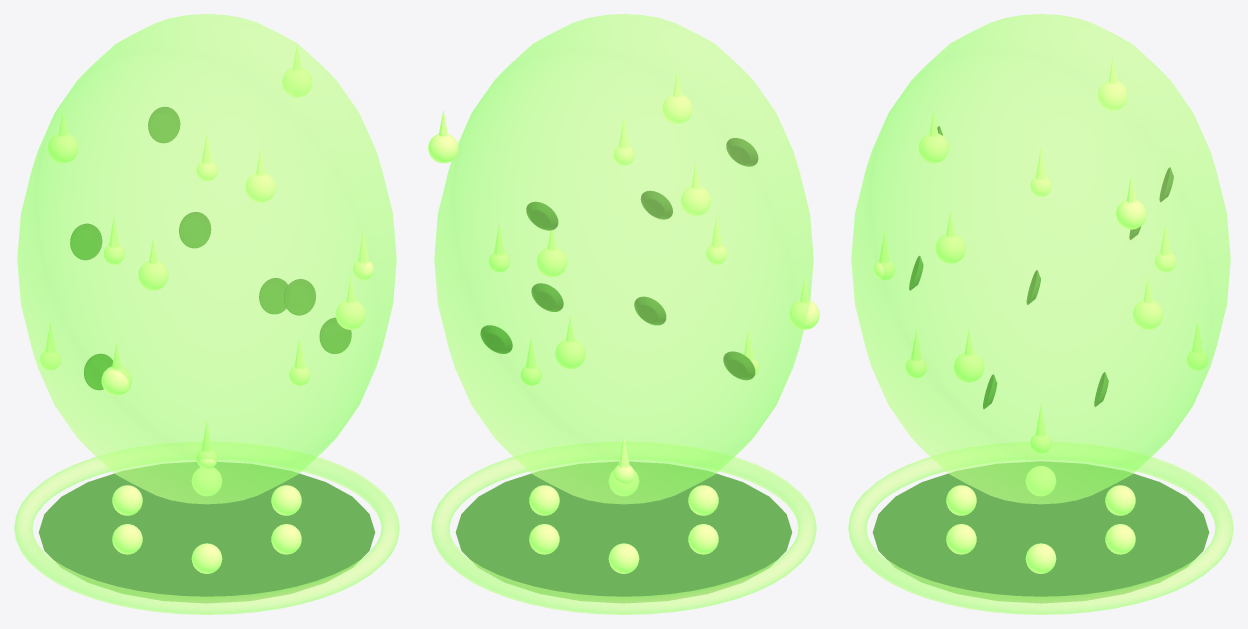
Rendered from vfx_status_poison.glb.
The picture shows the model from 3 angles, left to right: view 1: azimuth 30°, elevation 25°; view 2: azimuth 150°, elevation 25°; view 3: azimuth 270°, elevation 25°; orthographic projection.
Parts seen in each view (by area): view 1: poison_haze, poison_pool, poison_ring, poison_pit4, poison_pit5, poison_pit2, poison_pit1, poison_pit0, poison_pit6, poison_bubble2, poison_bubble1, poison_bubble3 (+10 smaller); view 2: poison_haze, poison_pool, poison_ring, poison_bubble4, poison_bubble3, poison_bubble5, poison_bubble0, poison_bubble2, poison_drip11, poison_drip3, poison_drip5, poison_drip9 (+9 smaller); view 3: poison_haze, poison_pool, poison_ring, poison_bubble0, poison_bubble1, poison_bubble5, poison_bubble2, poison_bubble4, poison_bubble3, poison_drip11, poison_drip3, poison_drip1 (+3 smaller).
Part boxes in pixels (left/top/right/bottom): poison_haze: left=17, top=14, right=396, bottom=504; poison_pool: left=38, top=462, right=375, bottom=603; poison_ring: left=14, top=442, right=399, bottom=614; poison_pit4: left=70, top=223, right=102, bottom=260; poison_pit5: left=148, top=107, right=180, bottom=143; poison_pit2: left=179, top=212, right=211, bottom=248; poison_pit1: left=284, top=279, right=315, bottom=315; poison_pit0: left=319, top=317, right=351, bottom=353; poison_pit6: left=259, top=278, right=287, bottom=314; poison_bubble2: left=191, top=543, right=222, bottom=573; poison_bubble1: left=271, top=524, right=301, bottom=554; poison_bubble3: left=112, top=524, right=142, bottom=554; poison_haze: left=434, top=14, right=813, bottom=504; poison_pool: left=455, top=462, right=792, bottom=603; poison_ring: left=431, top=442, right=816, bottom=614; poison_bubble4: left=608, top=543, right=639, bottom=573; poison_bubble3: left=688, top=524, right=718, bottom=554; poison_bubble5: left=529, top=524, right=559, bottom=554; poison_bubble0: left=529, top=485, right=559, bottom=515; poison_bubble2: left=688, top=485, right=718, bottom=515; poison_drip11: left=428, top=133, right=458, bottom=163; poison_drip3: left=662, top=94, right=692, bottom=124; poison_drip5: left=789, top=300, right=819, bottom=329; poison_drip9: left=555, top=339, right=585, bottom=368; poison_haze: left=851, top=14, right=1230, bottom=504; poison_pool: left=872, top=461, right=1209, bottom=603; poison_ring: left=848, top=442, right=1233, bottom=614; poison_bubble0: left=1025, top=543, right=1056, bottom=573; poison_bubble1: left=946, top=524, right=976, bottom=554; poison_bubble5: left=1105, top=524, right=1135, bottom=554; poison_bubble2: left=946, top=485, right=976, bottom=515; poison_bubble4: left=1105, top=485, right=1135, bottom=515; poison_bubble3: left=1026, top=466, right=1055, bottom=495; poison_drip11: left=1116, top=200, right=1146, bottom=229; poison_drip3: left=918, top=134, right=948, bottom=163; poison_drip1: left=953, top=353, right=984, bottom=382.
Bounding box in the file's own units: 1.26 × 1.84 × 1.26.
